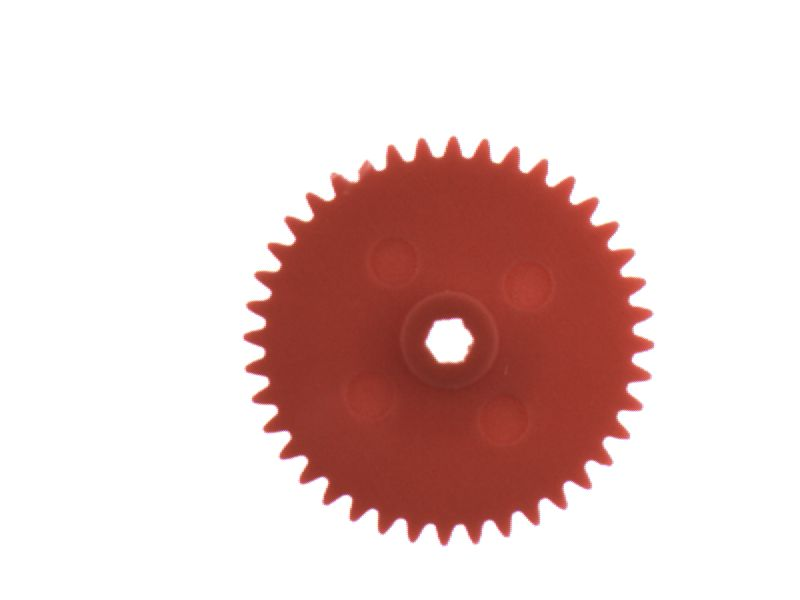defect_break: (343, 145, 383, 186)
